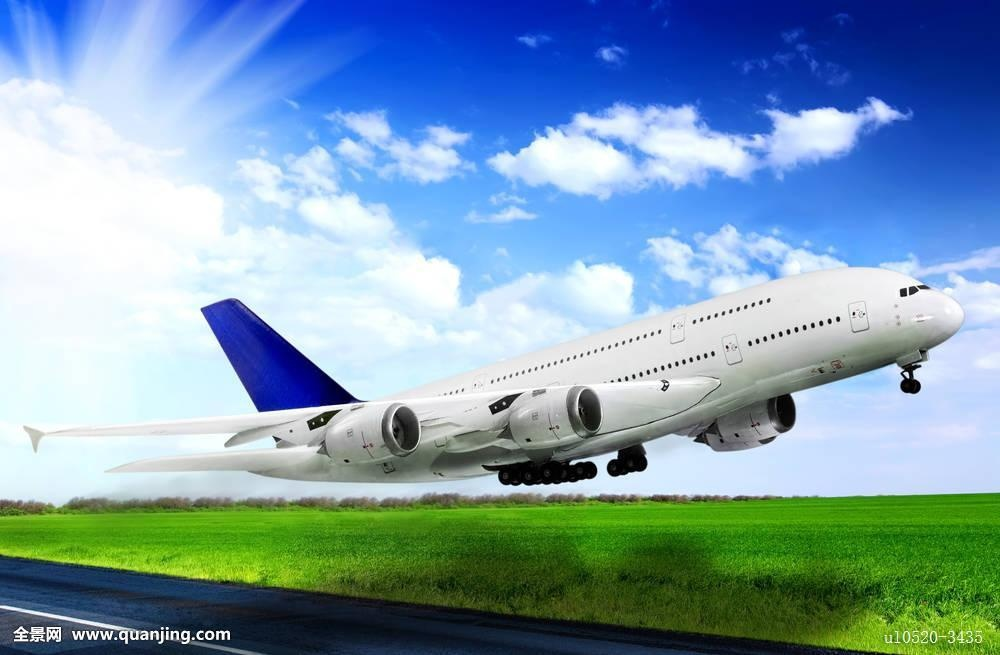airplane: (23, 261, 971, 485)
